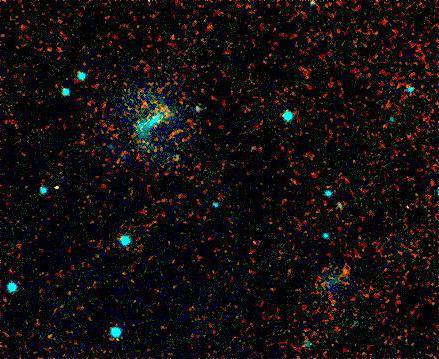star: (52, 175, 82, 205)
